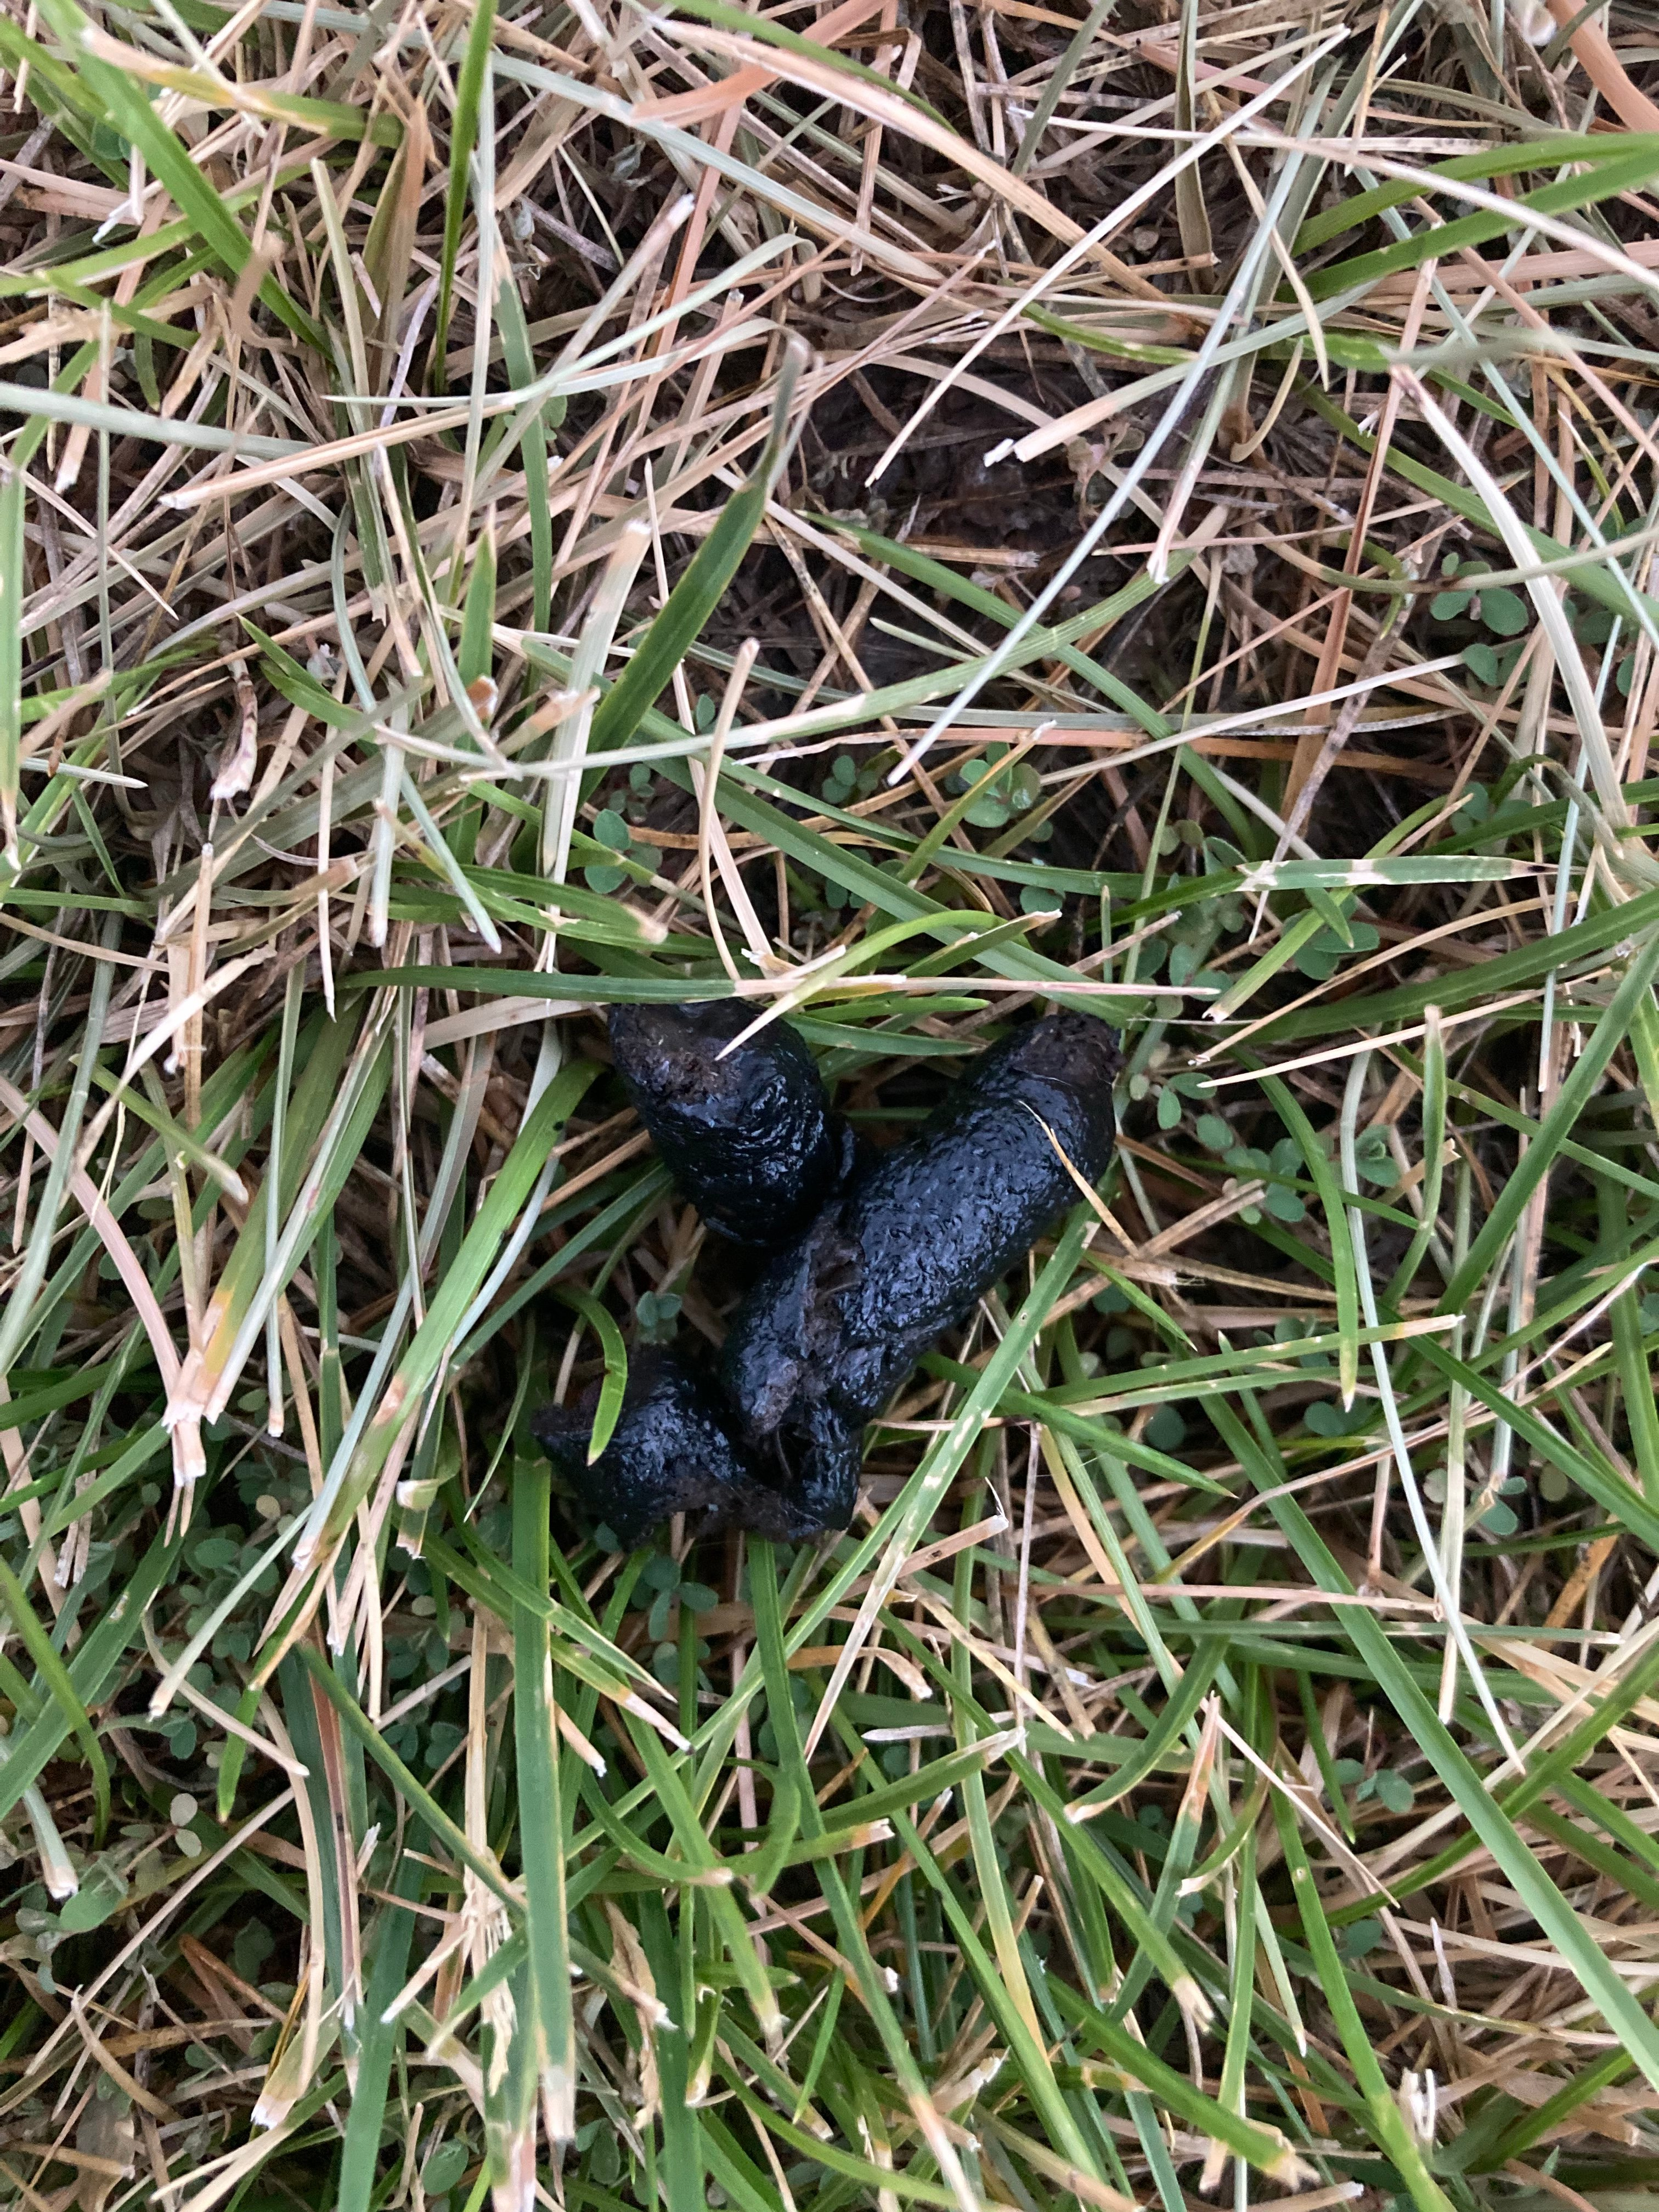Elk: (561, 989, 1114, 1496)
